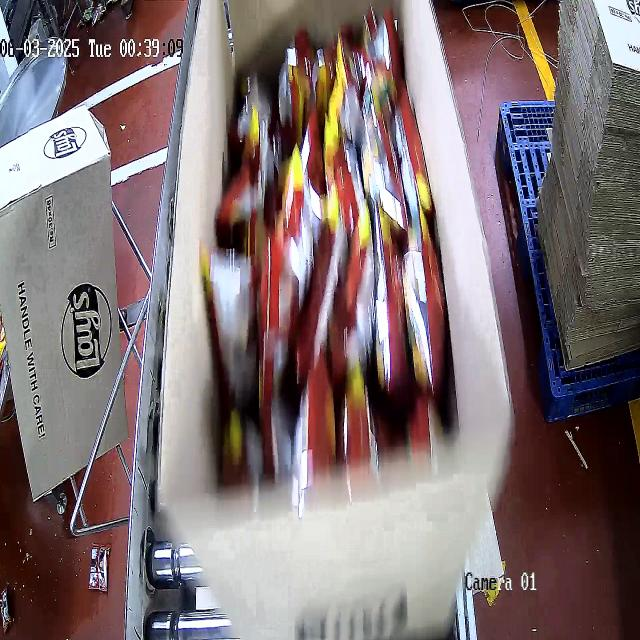MASALA: (203, 5, 451, 517)
